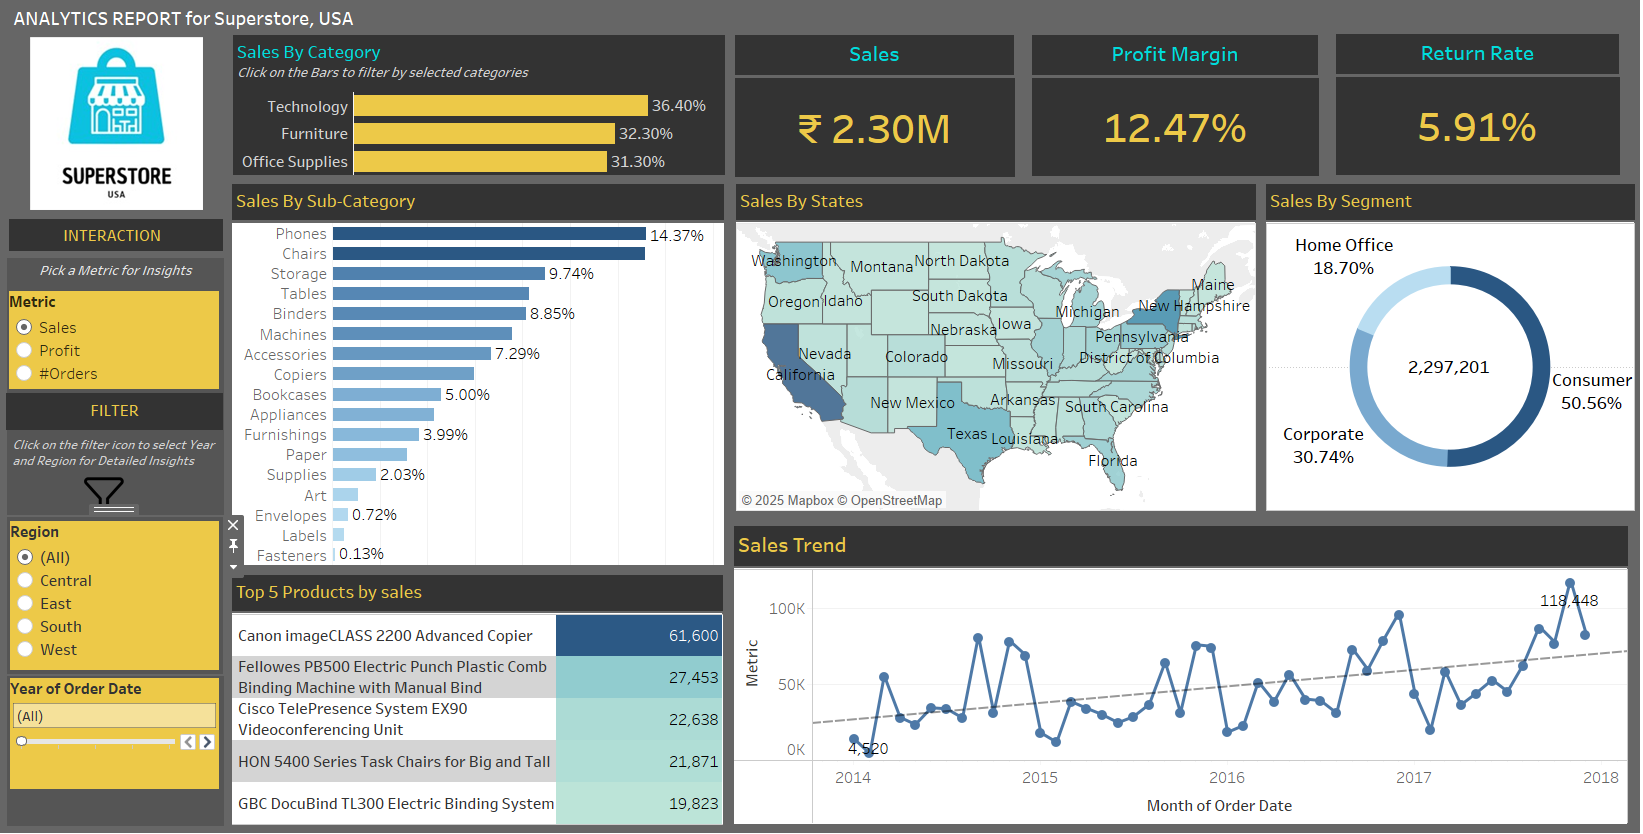

This screenshot's page, from the dashboard's own definition file:
{"tool":"tableau","page":{"name":"Superstore Dashboard ","canvas":[1000,1000],"units":"permille","ordinal":0},"visuals":[{"type":"text","box":[11.5,12.9,258.3,40]},{"type":"worksheet","title":"Return Rate","mark":"Automatic","box":[811.7,51.7,179.8,176.3]},{"type":"worksheet","title":"Sales by Category","mark":"Automatic","rows":["Category"],"cols":["Calculation_662029194644070401"],"box":[146.3,52.9,296.9,164.5]},{"type":"worksheet","title":"Sales","mark":"Automatic","box":[449,52.9,172,176.3]},{"type":"worksheet","title":"Profit Margin","mark":"Automatic","box":[628.2,52.9,175,195.1]},{"type":"image","param":"Image/Picture1.jpg","box":[8.5,55.2,135.4,203.3]},{"type":"worksheet","title":"Sales By Sub-Category","mark":"Automatic","rows":["Sub-Category"],"cols":["Calculation_662029194644070401"],"box":[145.7,228,296.9,447.7]},{"type":"worksheet","title":"Sales by States","mark":"Multipolygon","box":[449.6,228,313.8,384.2]},{"type":"worksheet","title":"Sales by Segment","mark":"Automatic","rows":["Calculation_1071575284395577345","Calculation_1071575284395589635"],"box":[769.5,228,222.7,384.2]},{"type":"text","box":[24.9,258.5,96.5,58.8]},{"type":"blank","box":[10.9,269.1,129.3,37.6]},{"type":"text","box":[17,311.4,117.2,34.1]},{"type":"parameter","param":"[Parameters].[Parameter 3]","box":[10.9,353.7,126.9,115.2]},{"type":"text","box":[41.9,471.2,65.6,44.6]},{"type":"blank","box":[9.1,473.6,131.2,43.5]},{"type":"text","box":[10.9,518.2,128.7,51.7]},{"type":"dashboard-object","box":[44.3,565.2,47.4,55.2]},{"type":"filter","title":"Sales by Category","param":"[federated.0ae6tyv128tcyy14h5fwh0m6l3ps].[none:Region:nk]","box":[9.1,619.3,131.2,184.5]},{"type":"worksheet","title":"Sales Trend","mark":"Automatic","rows":["Calculation_662029194644070401","Calculation_662029194644070401"],"cols":["Order Date"],"box":[448.4,629.9,539.5,350.2]},{"type":"worksheet","title":"Top 5 Products by sales","mark":"Square","rows":["Product Name"],"box":[145.7,687.4,298.1,305.5]},{"type":"filter","title":"Sales by Category","param":"[federated.0ae6tyv128tcyy14h5fwh0m6l3ps].[yr:Order Date:ok]","box":[9.1,803.8,131.2,139.8]}]}

Visuals, with their boxes on the dashboard's canvas, which has no fixed pixel size, in thousandths of its width and height (x1, y1, x2, y2). These are canvas units, not pixel positions in the 1643x834 screenshot, which may show the page scaled, cropped or inside an application window:
text: (left=12, top=13, right=270, bottom=53)
"Return Rate" worksheet: (left=812, top=52, right=992, bottom=228)
"Sales by Category" worksheet: (left=146, top=53, right=443, bottom=217)
"Sales" worksheet: (left=449, top=53, right=621, bottom=229)
"Profit Margin" worksheet: (left=628, top=53, right=803, bottom=248)
image: (left=8, top=55, right=144, bottom=258)
"Sales By Sub-Category" worksheet: (left=146, top=228, right=443, bottom=676)
"Sales by States" worksheet (Multipolygon marks): (left=450, top=228, right=763, bottom=612)
"Sales by Segment" worksheet: (left=770, top=228, right=992, bottom=612)
text: (left=25, top=258, right=121, bottom=317)
blank: (left=11, top=269, right=140, bottom=307)
text: (left=17, top=311, right=134, bottom=346)
parameter: (left=11, top=354, right=138, bottom=469)
text: (left=42, top=471, right=108, bottom=516)
blank: (left=9, top=474, right=140, bottom=517)
text: (left=11, top=518, right=140, bottom=570)
dashboard-object: (left=44, top=565, right=92, bottom=620)
"Sales by Category" filter: (left=9, top=619, right=140, bottom=804)
"Sales Trend" worksheet: (left=448, top=630, right=988, bottom=980)
"Top 5 Products by sales" worksheet (Square marks): (left=146, top=687, right=444, bottom=993)
"Sales by Category" filter: (left=9, top=804, right=140, bottom=944)
